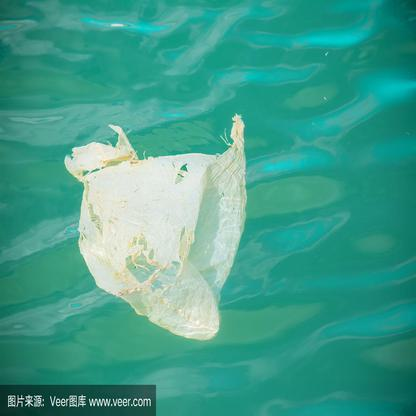plastic bag: (62, 112, 245, 341)
